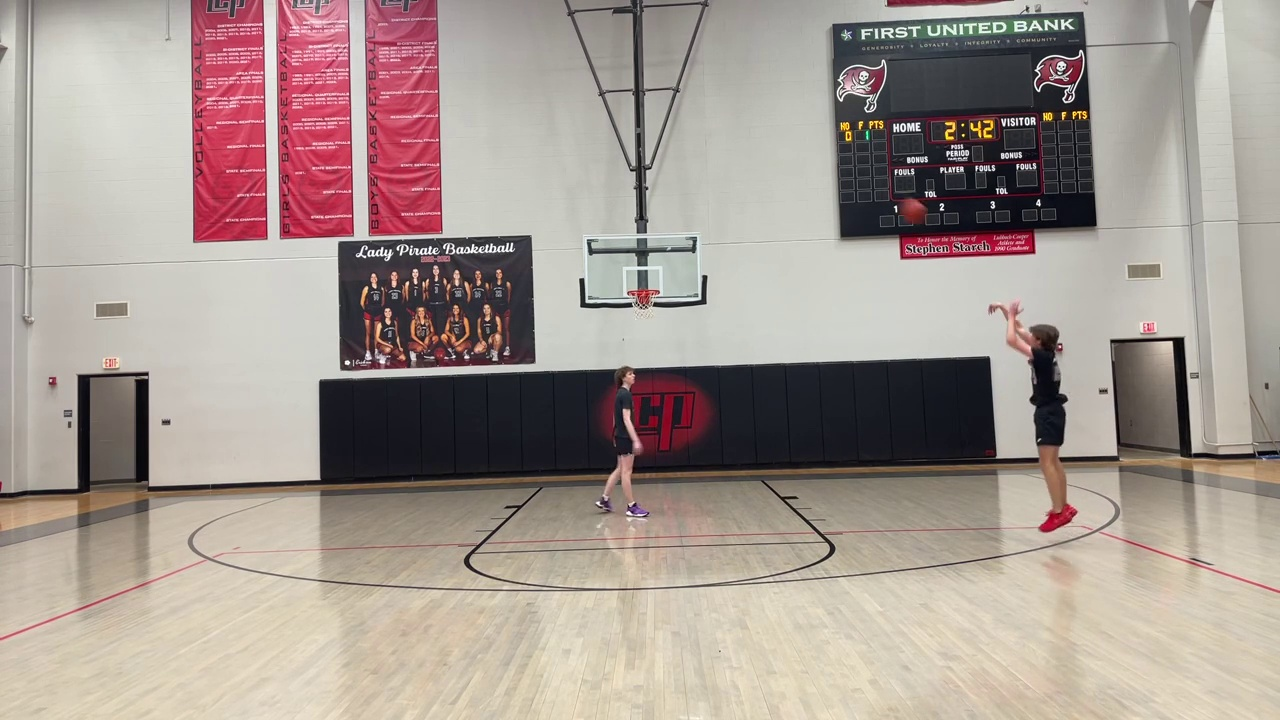shooting player: (986, 298, 1075, 533)
